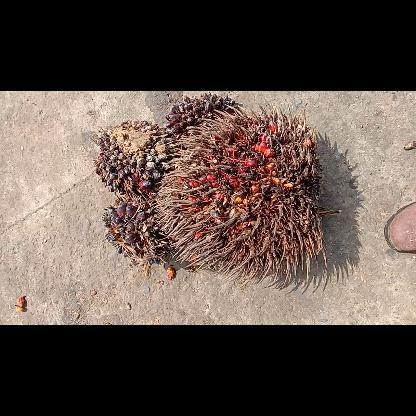TBS abnormal: (92, 117, 182, 197), (100, 196, 176, 266), (163, 94, 241, 140)
Terlalu masak: (152, 102, 342, 290)
